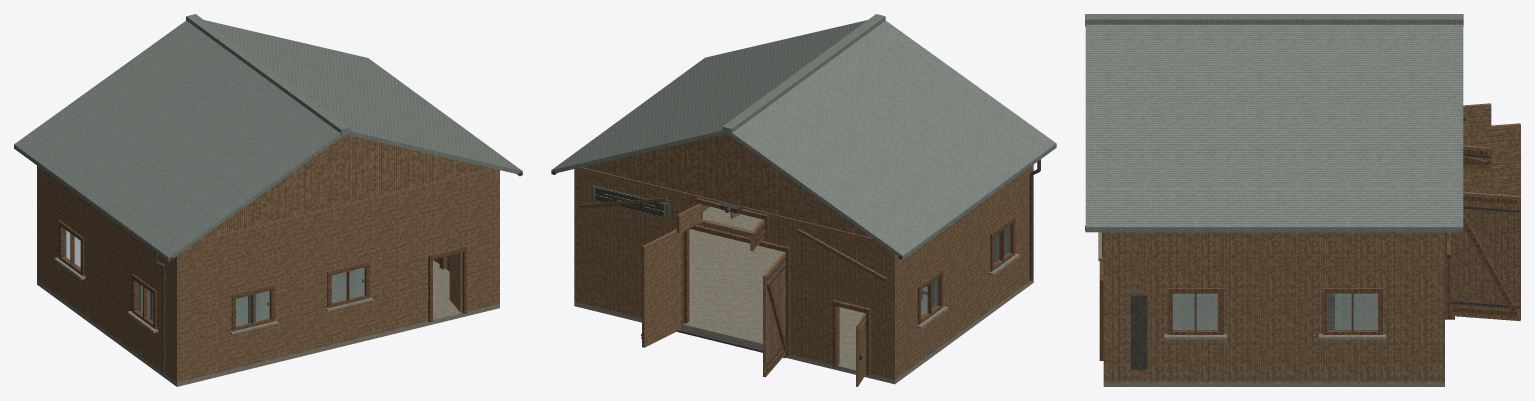
Rendered from PROJECT_Z_Alderbrook_Timber_Barn.glb.
The picture shows the model from 3 angles, left to right: view 1: azimuth 30°, elevation 25°; view 2: azimuth 150°, elevation 25°; view 3: azimuth 270°, elevation 25°; orthographic projection. The views are drawn at different scales.
Parts seen in each view (by area): view 1: Barn_RoofCorrugated_Left, Barn_RearWeatherboard_WithDoorOpening, Barn_RoofCorrugated_Right, Barn_LeftWeatherboard_WithRealWindows, Barn_GableRearBoarding, Barn_GroundHardstand_12x9, Barn_MetalRidgeStrip, Barn_RearExit_Casing, Barn_RearVentWindow1_WindowBreakableGlass, Barn_RearVentWindow1_WindowOakFrame, Barn_RearVentWindow2_WindowOakFrame, Barn_RearVentWindow2_WindowBreakableGlass (+3 smaller); view 2: Barn_RoofCorrugated_Left, Barn_FrontWeatherboard_WithThreeRealOpenings, Barn_RoofCorrugated_Right, Barn_LeftWeatherboard_WithRealWindows, Barn_GroundHardstand_12x9, Barn_GableFrontBoarding, Barn_RightBarnLeaf_BoardDoor, Barn_MetalRidgeStrip, Barn_LeftSlidingStyleSwingDoor_BoardDoor, Barn_WideBarnPortal_Casing, Barn_FictionalFarmBrandPlacard, Barn_FrontXBraceUpper (+8 smaller); view 3: Barn_RoofCorrugated_Right, Barn_RightWeatherboard_WithRealWindows, Barn_RightBarnLeaf_BoardDoor, Barn_GroundHardstand_12x9, Barn_MetalRidgeStrip, Barn_LeftSlidingStyleSwingDoor_BoardDoor, Barn_RightBarnWindow1_WindowBreakableGlass, Barn_RightBarnWindow2_WindowBreakableGlass, Barn_AluminumWaterPipeChase, Barn_RearWeatherboard_WithDoorOpening, Barn_RightBarnWindow1_WindowOakFrame, Barn_RightBarnWindow2_WindowOakFrame (+5 smaller).
Boxes of the visible parts, <box> form: Barn_RoofCorrugated_Left: <box>14,20,344,261</box>; Barn_RearWeatherboard_WithDoorOpening: <box>174,168,499,382</box>; Barn_RoofCorrugated_Right: <box>204,20,522,175</box>; Barn_LeftWeatherboard_WithRealWindows: <box>39,168,174,379</box>; Barn_GableRearBoarding: <box>200,134,491,239</box>; Barn_GroundHardstand_12x9: <box>37,259,499,386</box>; Barn_MetalRidgeStrip: <box>186,14,350,135</box>; Barn_RearExit_Casing: <box>428,246,467,322</box>; Barn_RearVentWindow1_WindowBreakableGlass: <box>236,291,269,326</box>; Barn_RearVentWindow1_WindowOakFrame: <box>231,285,274,331</box>; Barn_RearVentWindow2_WindowOakFrame: <box>327,261,369,308</box>; Barn_RearVentWindow2_WindowBreakableGlass: <box>332,268,364,302</box>; Barn_RoofCorrugated_Left: <box>728,20,1056,259</box>; Barn_FrontWeatherboard_WithThreeRealOpenings: <box>574,167,897,379</box>; Barn_RoofCorrugated_Right: <box>551,20,867,174</box>; Barn_LeftWeatherboard_WithRealWindows: <box>897,167,1030,377</box>; Barn_GroundHardstand_12x9: <box>574,206,1033,384</box>; Barn_GableFrontBoarding: <box>582,133,871,237</box>; Barn_RightBarnLeaf_BoardDoor: <box>642,229,681,347</box>; Barn_MetalRidgeStrip: <box>722,14,885,134</box>; Barn_LeftSlidingStyleSwingDoor_BoardDoor: <box>763,253,785,377</box>; Barn_WideBarnPortal_Casing: <box>676,222,790,355</box>; Barn_FictionalFarmBrandPlacard: <box>591,185,668,218</box>; Barn_FrontXBraceUpper: <box>578,197,887,281</box>; Barn_RoofCorrugated_Right: <box>1085,24,1463,232</box>; Barn_RightWeatherboard_WithRealWindows: <box>1110,232,1438,381</box>; Barn_RightBarnLeaf_BoardDoor: <box>1450,191,1520,320</box>; Barn_GroundHardstand_12x9: <box>1103,293,1444,386</box>; Barn_MetalRidgeStrip: <box>1085,14,1463,26</box>; Barn_LeftSlidingStyleSwingDoor_BoardDoor: <box>1463,123,1520,195</box>; Barn_RightBarnWindow1_WindowBreakableGlass: <box>1327,294,1377,329</box>; Barn_RightBarnWindow2_WindowBreakableGlass: <box>1173,294,1218,329</box>; Barn_AluminumWaterPipeChase: <box>1131,294,1147,369</box>; Barn_RearWeatherboard_WithDoorOpening: <box>1103,232,1110,381</box>; Barn_RightBarnWindow1_WindowOakFrame: <box>1322,288,1382,334</box>; Barn_RightBarnWindow2_WindowOakFrame: <box>1167,288,1223,334</box>.
Bounding box in the file's own units: 13.16 × 7.97 × 11.49.
8 materials, 8 textured.
